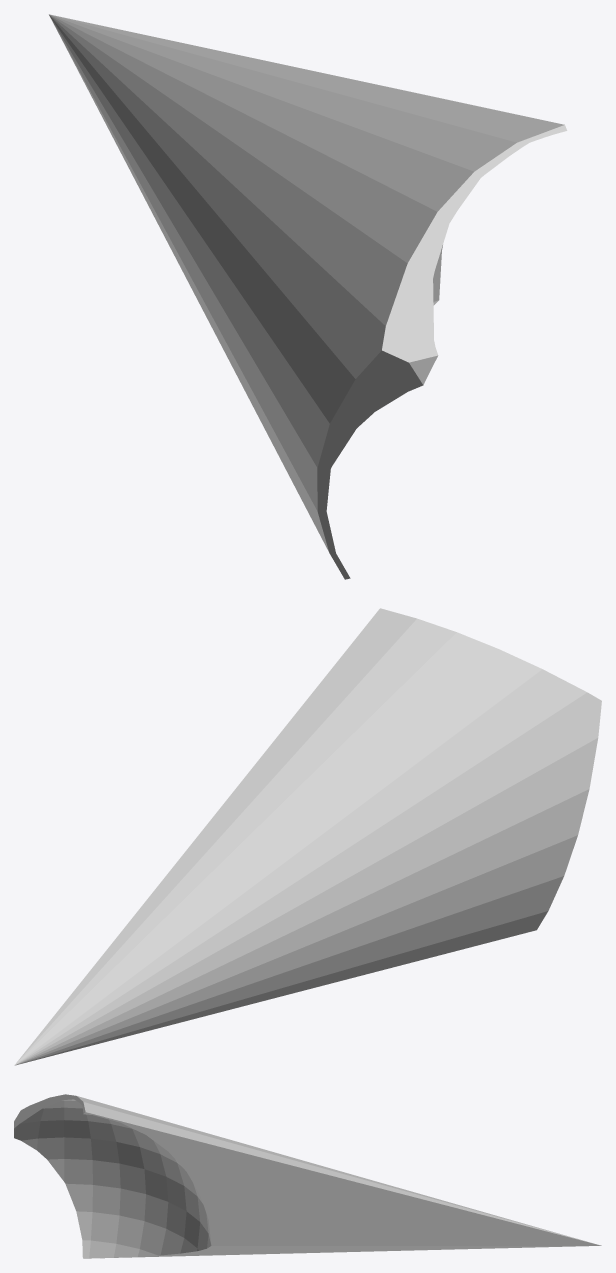
Rendered from BossConeLeft.obj.
3 renders of one model, top to bottom at view 1: azimuth 30°, elevation 25°; view 2: azimuth 150°, elevation 25°; view 3: azimuth 270°, elevation 25°, orthographic. The views are drawn at different scales.
Visible parts, largest first — view 1: 圓錐體.001; view 2: 圓錐體.001; view 3: 圓錐體.001.
Part boxes in pixels (<box>): 圓錐體.001: <box>49,14,567,579</box>; 圓錐體.001: <box>14,608,601,1065</box>; 圓錐體.001: <box>14,1094,601,1258</box>.
Size of the model in its own units: 1.82 by 2.63 by 7.
1 material, 1 textured.
